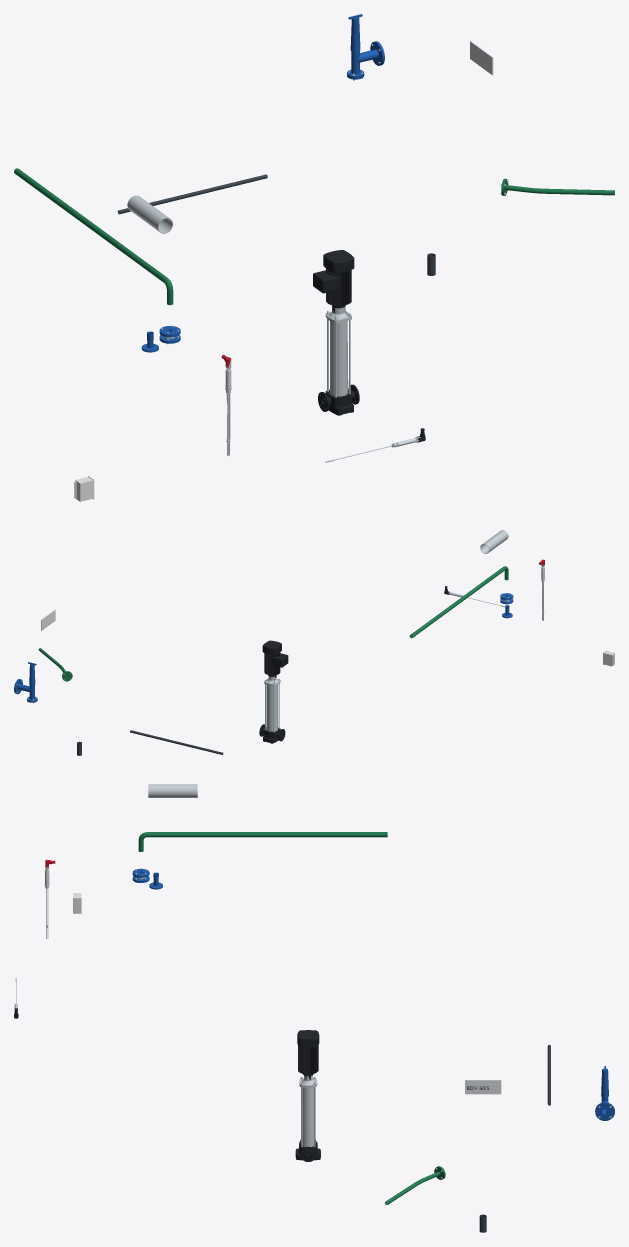
The model's file is s4000-1-D4bJmy9w.glb.
3 views of the same model, one above another, from view 1: azimuth 30°, elevation 25°; view 2: azimuth 150°, elevation 25°; view 3: azimuth 270°, elevation 25° (orthographic). The views are drawn at different scales.
Visible parts, largest first — view 1: pump_2 CAD solid 15, direct_inlet / green, pump_2 CAD solid 2, flash_steam_common / blue, gpz_bypass / steel, pump_2 CAD solid 0, bdv_cooling_stub / green; view 2: pump_2 CAD solid 15, direct_inlet / green, pump_2 CAD solid 2, flash_steam_common / blue, gpz_bypass / steel, pump_2 CAD solid 0; view 3: direct_inlet / green, pump_2 CAD solid 15, pump_2 CAD solid 2, gpz_bypass / steel.
Part boxes in pixels (bbox=[...]): pump_2 CAD solid 15: bbox=[313, 250, 354, 306]; direct_inlet / green: bbox=[14, 168, 173, 305]; pump_2 CAD solid 2: bbox=[330, 321, 347, 396]; flash_steam_common / blue: bbox=[347, 14, 384, 79]; gpz_bypass / steel: bbox=[127, 195, 172, 233]; pump_2 CAD solid 0: bbox=[318, 384, 359, 415]; bdv_cooling_stub / green: bbox=[501, 178, 614, 195]; pump_2 CAD solid 15: bbox=[262, 640, 288, 675]; direct_inlet / green: bbox=[409, 566, 508, 638]; pump_2 CAD solid 2: bbox=[266, 685, 277, 731]; flash_steam_common / blue: bbox=[14, 662, 37, 702]; gpz_bypass / steel: bbox=[480, 530, 508, 553]; pump_2 CAD solid 0: bbox=[259, 724, 285, 743]; direct_inlet / green: bbox=[138, 832, 387, 851]; pump_2 CAD solid 15: bbox=[297, 1030, 319, 1075]; pump_2 CAD solid 2: bbox=[301, 1087, 315, 1146]; gpz_bypass / steel: bbox=[148, 784, 197, 797].
Bounding box in the file's own units: 5.64 × 2.43 × 4.99.
